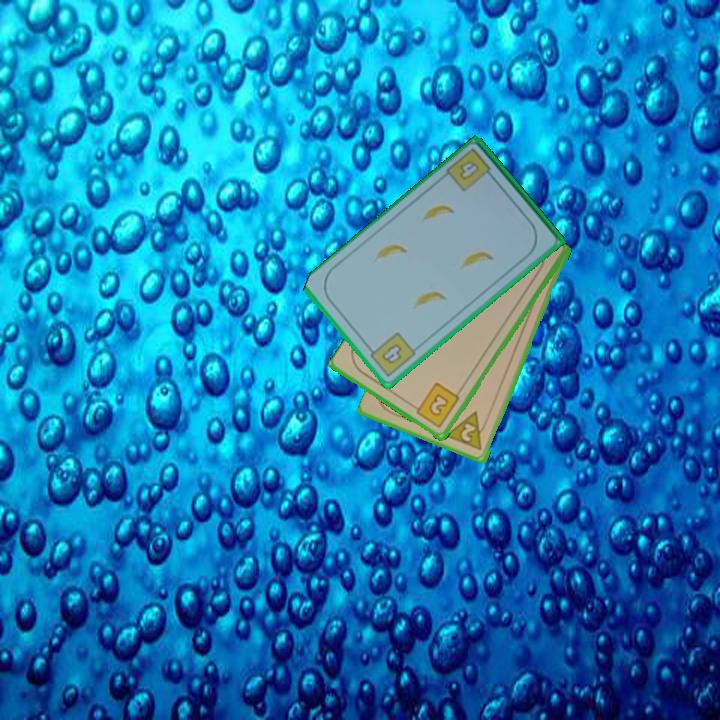2b: (409, 379, 463, 431)
2p: (444, 408, 491, 454)
4b: (364, 329, 419, 380), (443, 145, 498, 195)
